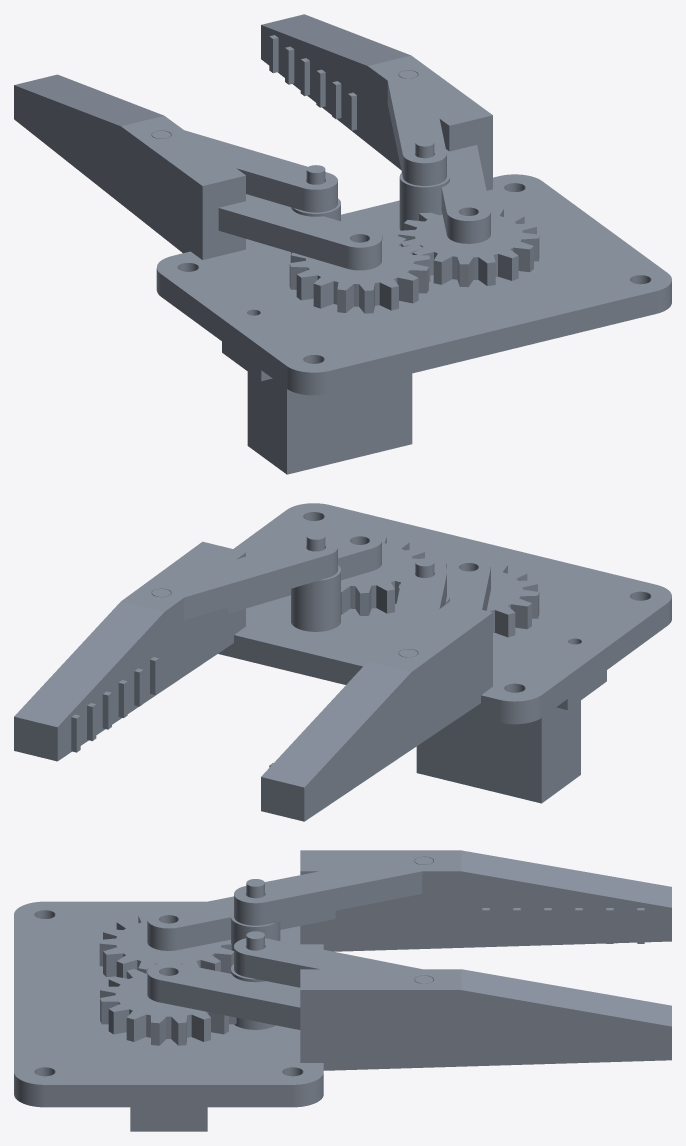
Rendered from step-5-preview-1.glb.
3 renders of one model, top to bottom at view 1: azimuth 30°, elevation 25°; view 2: azimuth 150°, elevation 25°; view 3: azimuth 270°, elevation 25°, orthographic.
Parts seen in each view (by area): view 1: preview_4, preview_285, preview_26, preview_8, preview_45, preview_214, preview_200, preview_184, preview_38, preview_202, preview_219, preview_264 (+14 smaller); view 2: preview_4, preview_285, preview_214, preview_28, preview_264, preview_219, preview_184, preview_200, preview_45, preview_9, preview_178, preview_38 (+10 smaller); view 3: preview_4, preview_240, preview_258, preview_12, preview_45, preview_219, preview_264, preview_184, preview_200, preview_195, preview_187, preview_192 (+12 smaller).
Boxes of the visible parts, <box> form: preview_4: <box>157,174,671,372</box>; preview_285: <box>14,85,202,259</box>; preview_26: <box>261,370,412,474</box>; preview_8: <box>329,291,656,393</box>; preview_45: <box>289,207,539,290</box>; preview_214: <box>261,25,449,169</box>; preview_200: <box>139,125,337,189</box>; preview_184: <box>386,65,446,163</box>; preview_38: <box>247,372,286,474</box>; preview_202: <box>218,208,347,268</box>; preview_219: <box>261,14,410,65</box>; preview_264: <box>14,74,163,126</box>; preview_4: <box>233,503,671,701</box>; preview_285: <box>304,613,492,821</box>; preview_214: <box>57,552,245,760</box>; preview_28: <box>416,699,567,803</box>; preview_264: <box>261,662,410,787</box>; preview_219: <box>14,601,163,727</box>; preview_184: <box>139,539,337,602</box>; preview_200: <box>386,565,446,662</box>; preview_45: <box>325,534,538,614</box>; preview_9: <box>218,635,498,722</box>; preview_178: <box>184,555,328,620</box>; preview_38: <box>541,700,580,803</box>; preview_4: <box>14,901,323,1084</box>; preview_240: <box>300,990,671,1070</box>; preview_258: <box>300,871,671,951</box>; preview_12: <box>45,1085,292,1107</box>; preview_45: <box>99,914,233,1023</box>; preview_219: <box>461,969,671,1026</box>; preview_264: <box>461,850,671,907</box>; preview_184: <box>234,938,445,988</box>; preview_200: <box>234,851,445,903</box>; preview_195: <box>264,871,422,924</box>; preview_187: <box>159,980,300,1029</box>; preview_192: <box>147,962,300,1007</box>.
Size of the model in its own units: 0.07 by 0.0415 by 0.1062.
